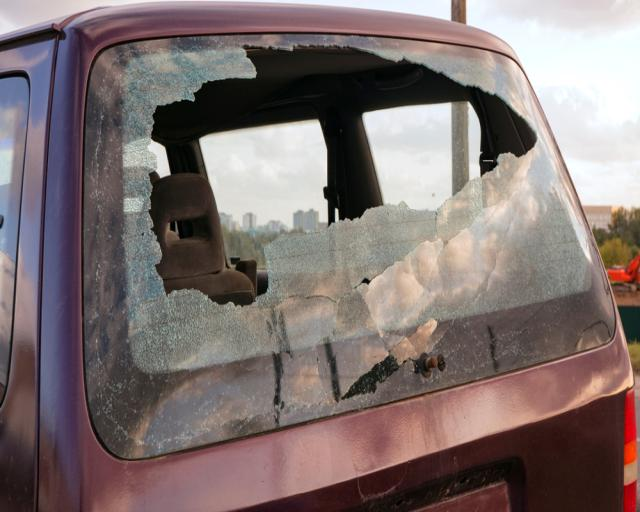glass shatter: (83, 33, 617, 462)
